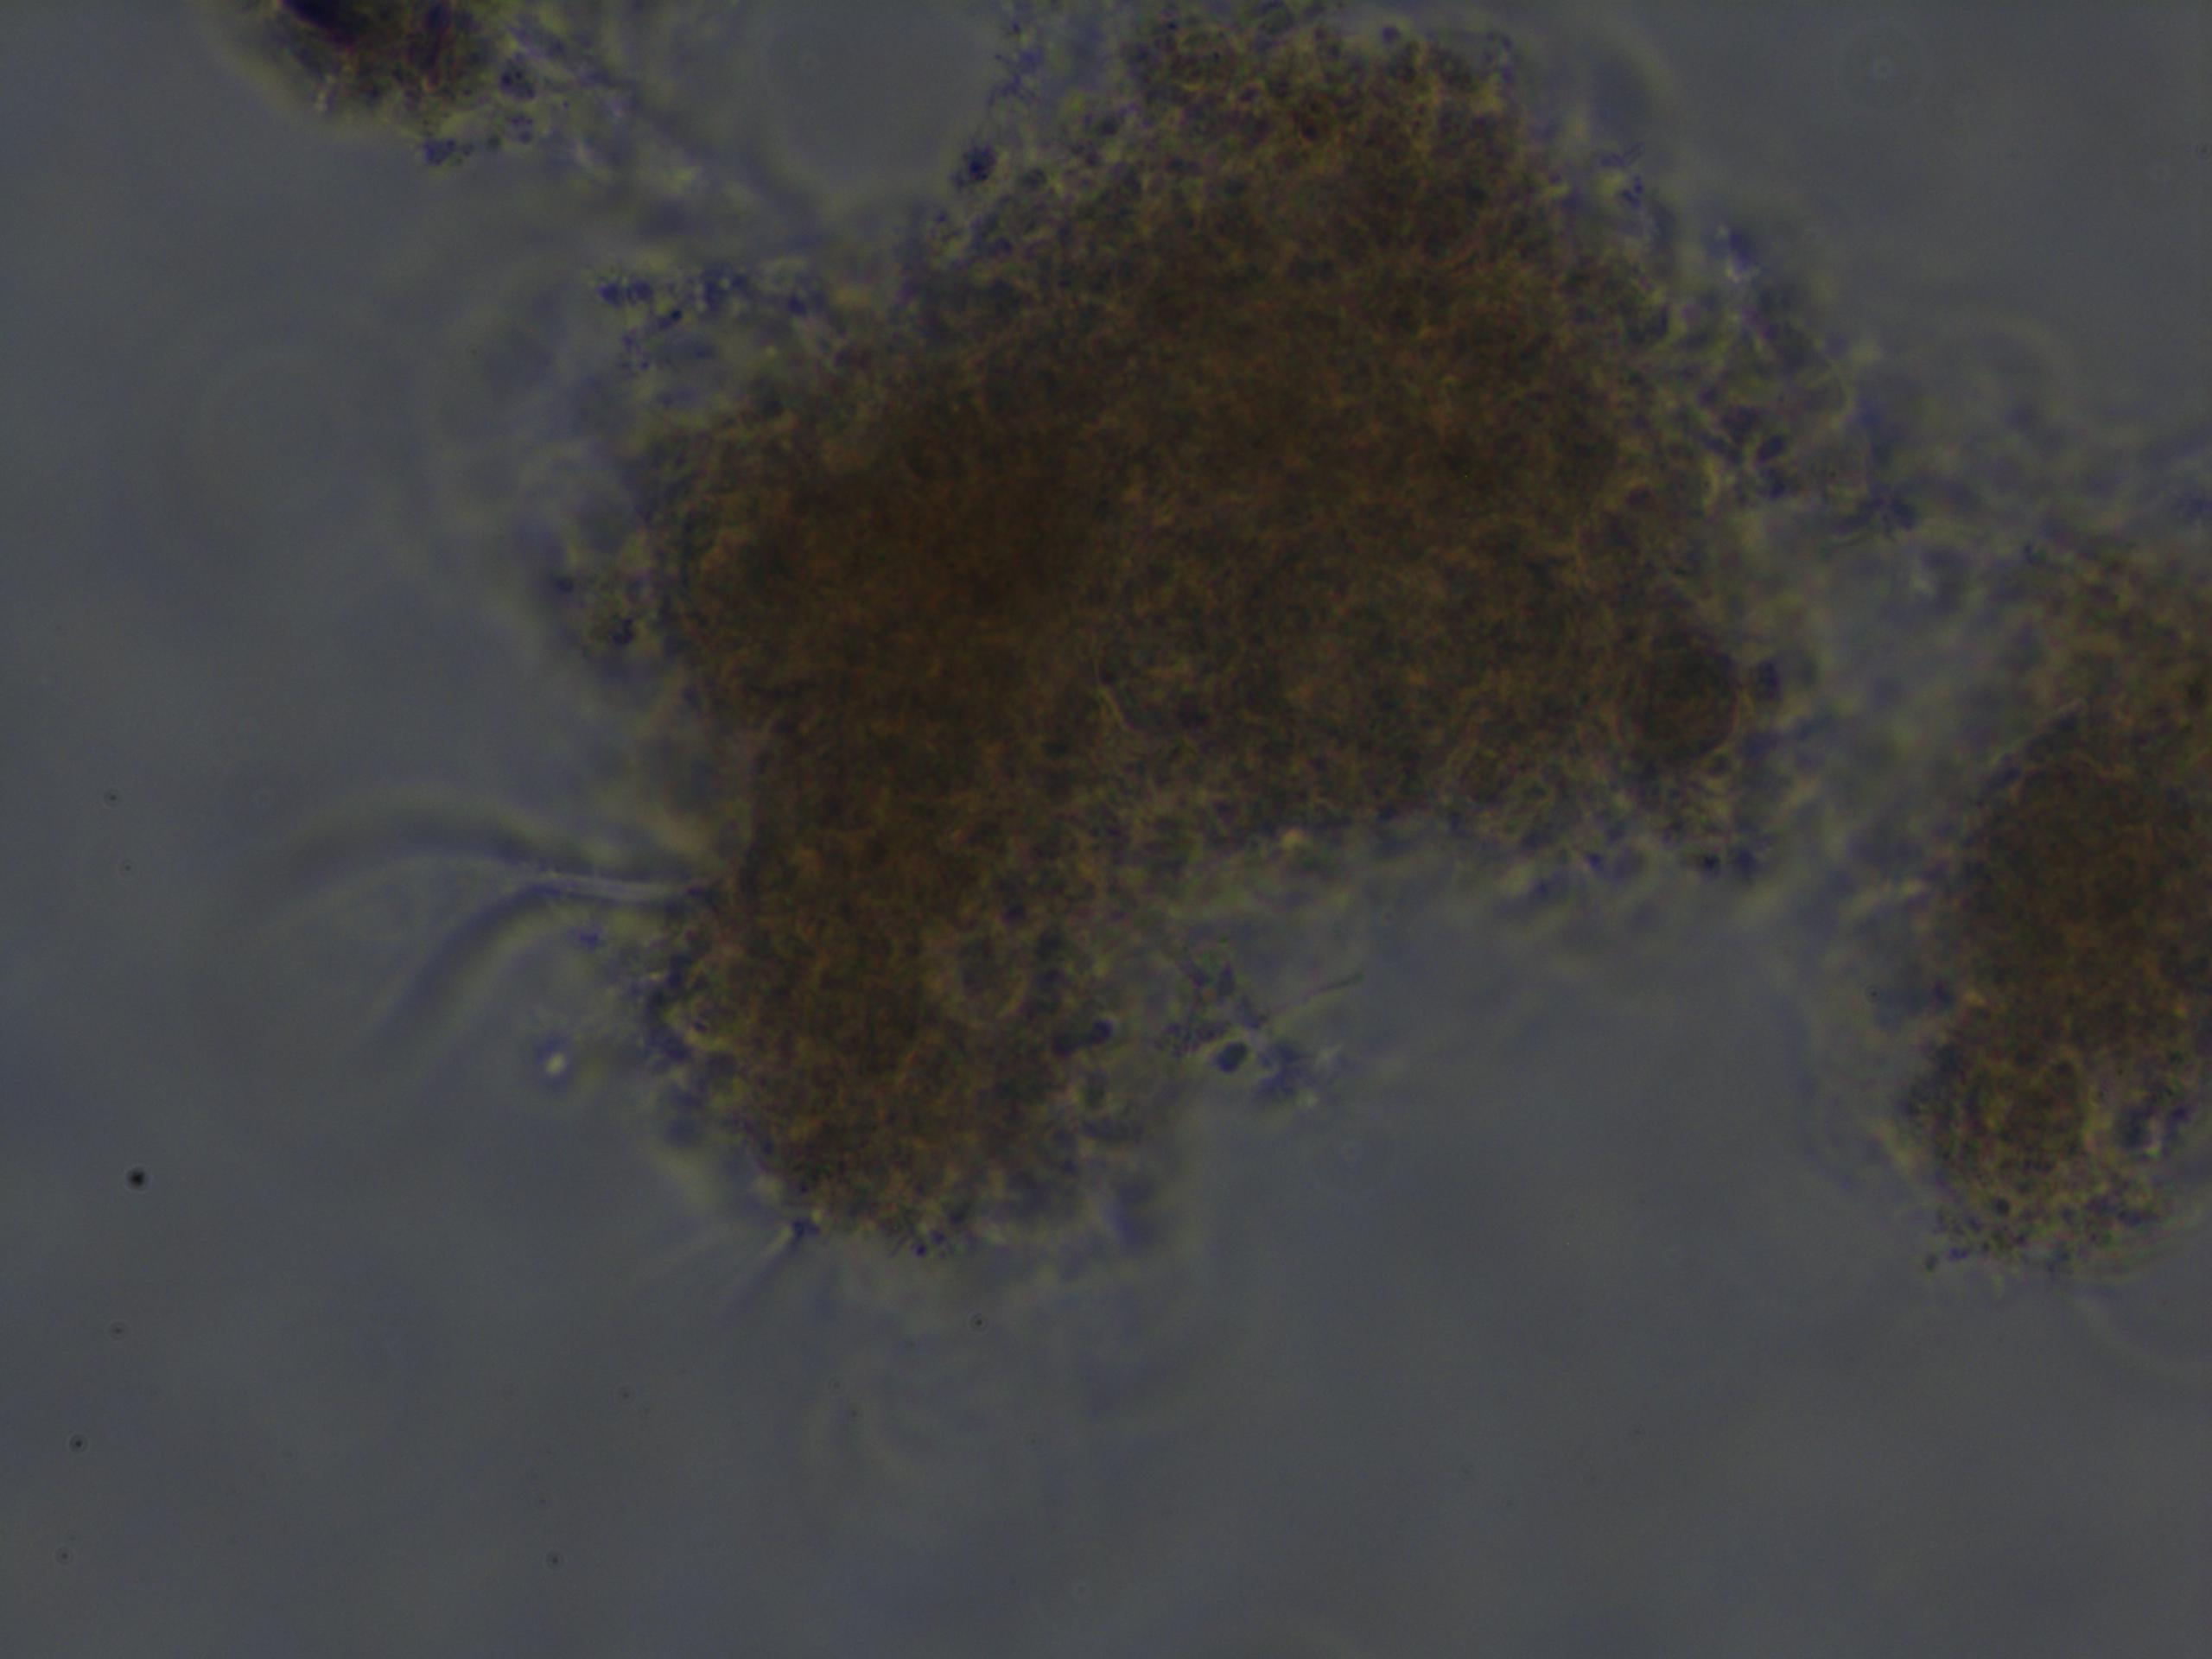filament: (300, 791, 697, 1063)
spherical_floc: (585, 0, 1815, 1274)
